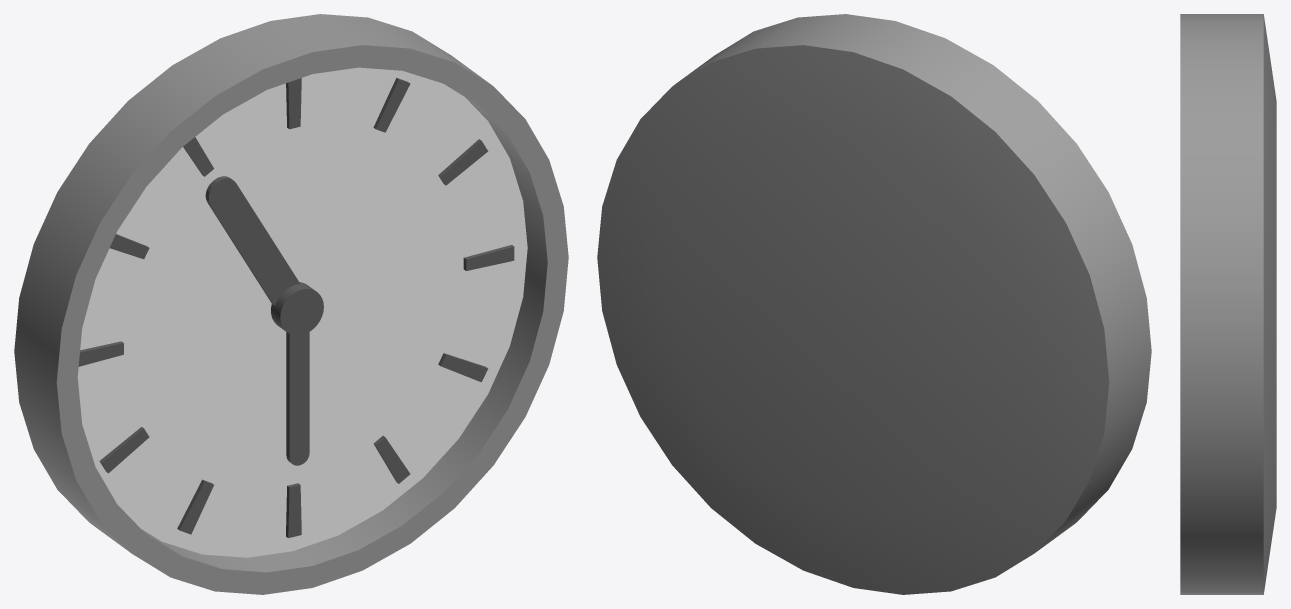
The model's file is eleven_thirty.gltf.
3 views of the same model, side by side, from view 1: azimuth 30°, elevation 25°; view 2: azimuth 150°, elevation 25°; view 3: azimuth 270°, elevation 25° (orthographic).
Parts seen in each view (by area): view 1: Circle.2498; view 2: Circle.2498; view 3: Circle.2498.
Boxes of the visible parts, bbox=[...] form: Circle.2498: bbox=[14, 14, 568, 594]; Circle.2498: bbox=[597, 14, 1151, 594]; Circle.2498: bbox=[1180, 14, 1276, 594].
Size of the model in its own units: 2.33 by 2.33 by 0.387.
Materials: 1 (1 with a texture image).
